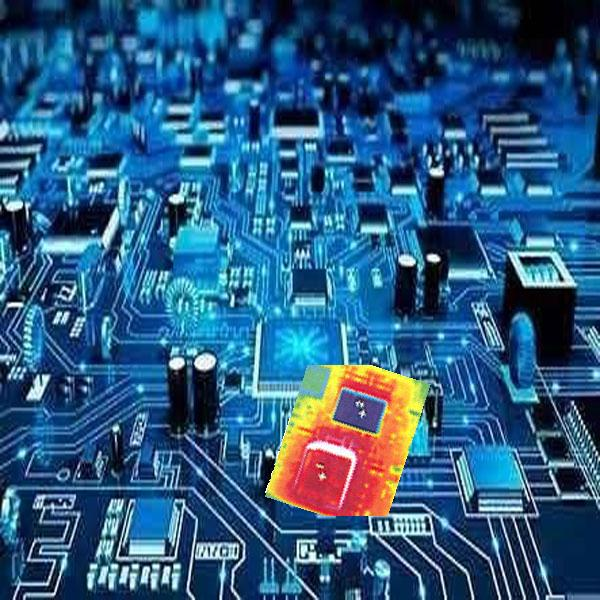componente_T: (266, 363, 431, 517)
